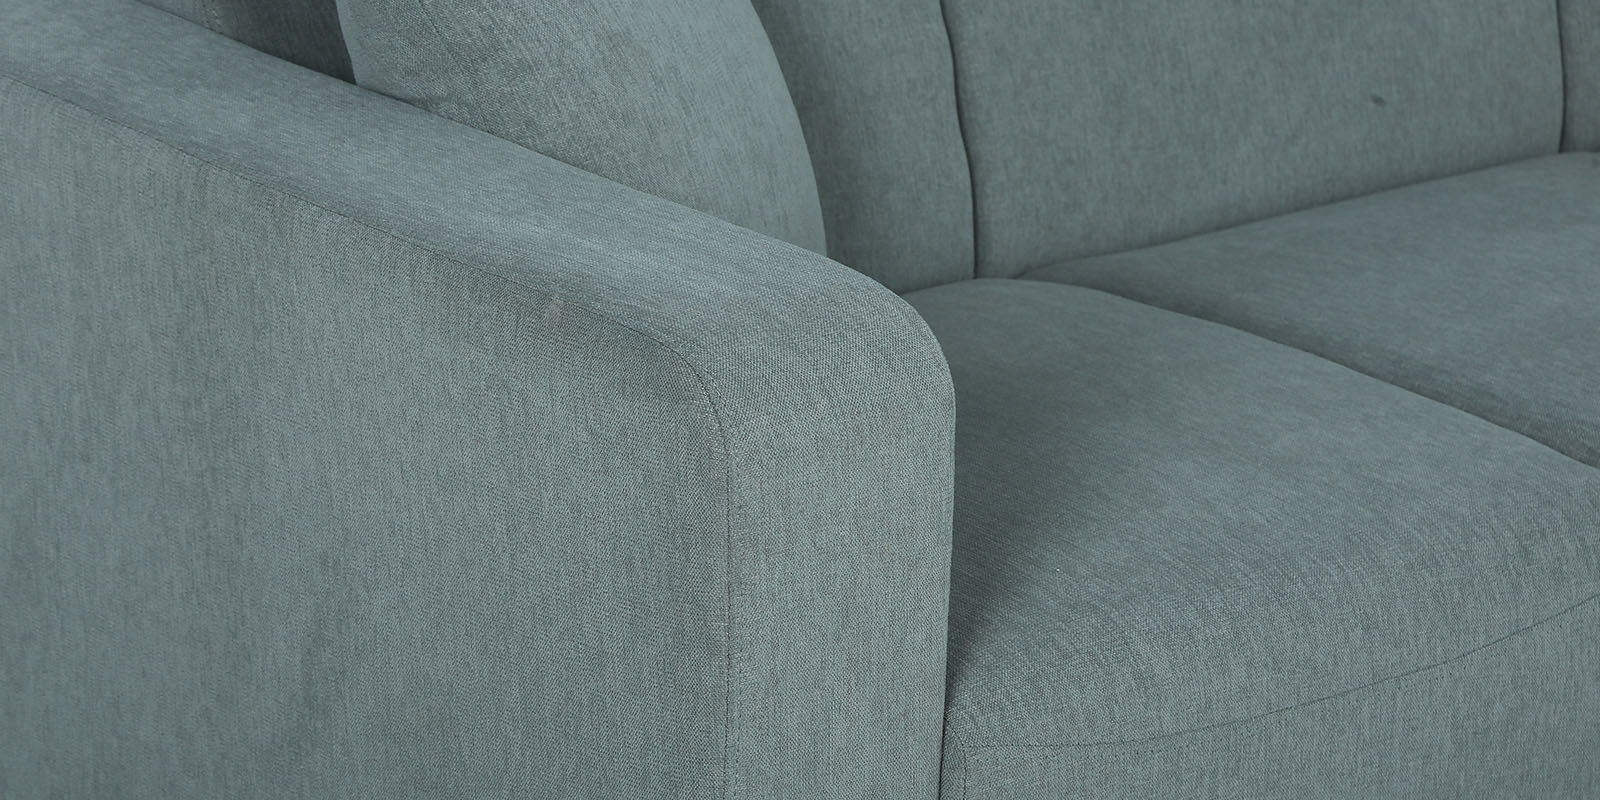Alba Three Seater Sofa in Ash Grey Colour by CasaCraft: (2, 1, 1532, 715)
